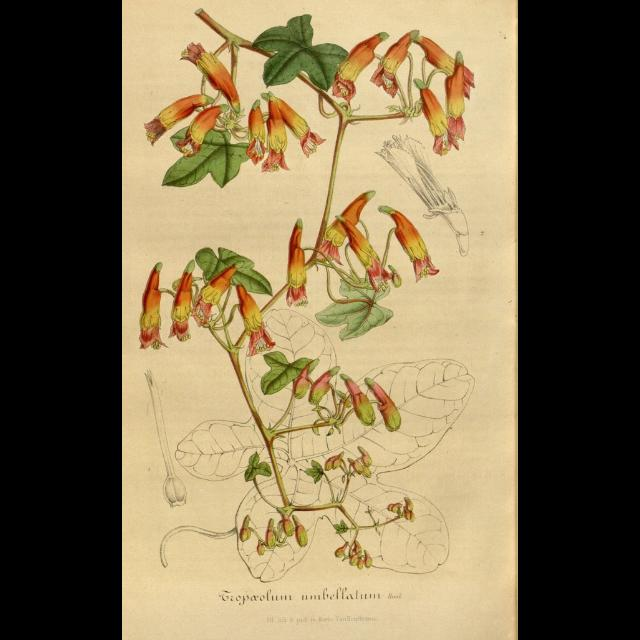Flower: (375, 128, 471, 255), (412, 65, 466, 157), (378, 202, 440, 280), (334, 215, 400, 288), (313, 193, 377, 267), (329, 32, 389, 104), (412, 32, 476, 98), (368, 29, 424, 99), (238, 511, 312, 555), (165, 257, 201, 339), (236, 283, 274, 357), (192, 263, 234, 329), (139, 260, 169, 350), (447, 48, 469, 140), (342, 374, 380, 426), (288, 212, 308, 310), (366, 375, 394, 439), (322, 446, 373, 480), (336, 540, 378, 570), (310, 364, 340, 402), (288, 245, 306, 307), (295, 361, 321, 399), (388, 498, 417, 522)
